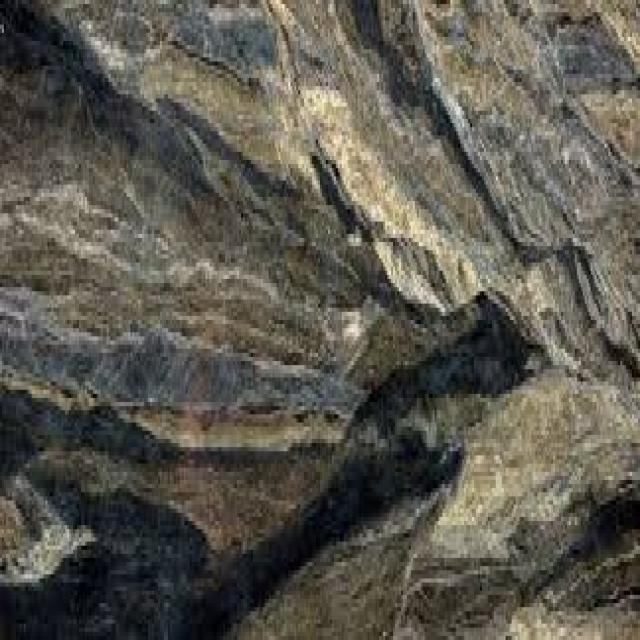Metamorphic: (2, 4, 640, 636)
